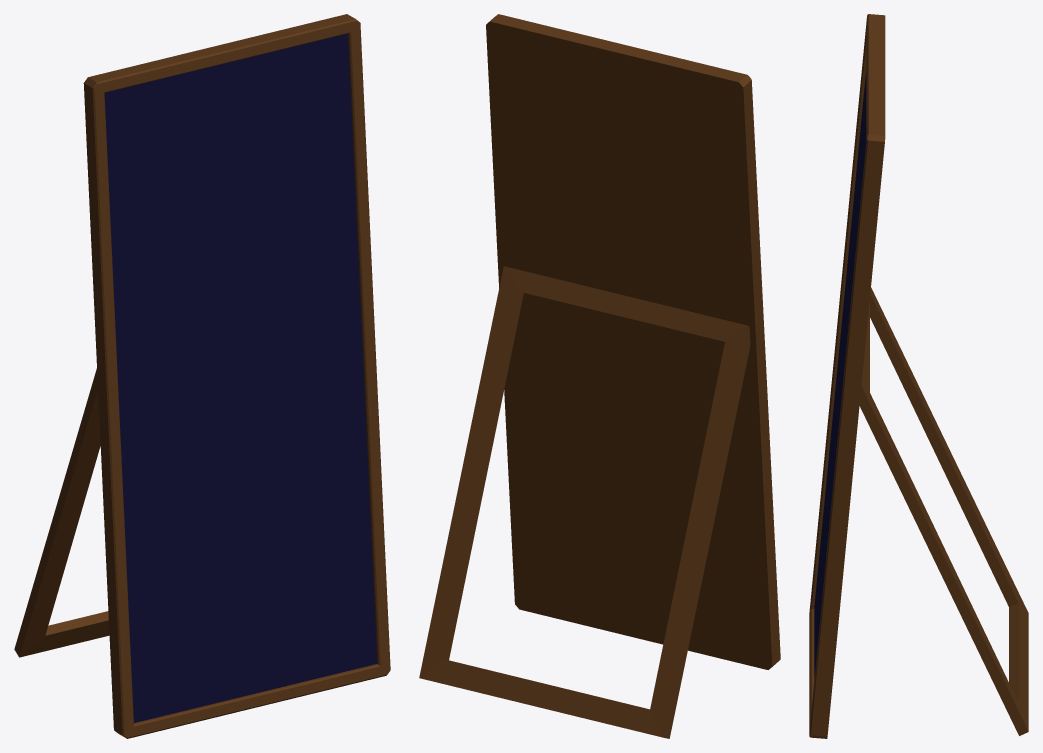
Rendered from Mirror1.glb.
The picture shows the model from 3 angles, left to right: view 1: azimuth 30°, elevation 25°; view 2: azimuth 150°, elevation 25°; view 3: azimuth 270°, elevation 25°; orthographic projection. The views are drawn at different scales.
Visible parts, largest first — view 1: Mirror1; view 2: Mirror1; view 3: Mirror1.
Boxes of the visible parts, box(x1,y1,x2,y2) form: Mirror1: box(14, 14, 390, 738); Mirror1: box(419, 14, 780, 738); Mirror1: box(809, 14, 1028, 738).
Size of the model in its own units: 0.7622 by 1.73 by 0.5684.
